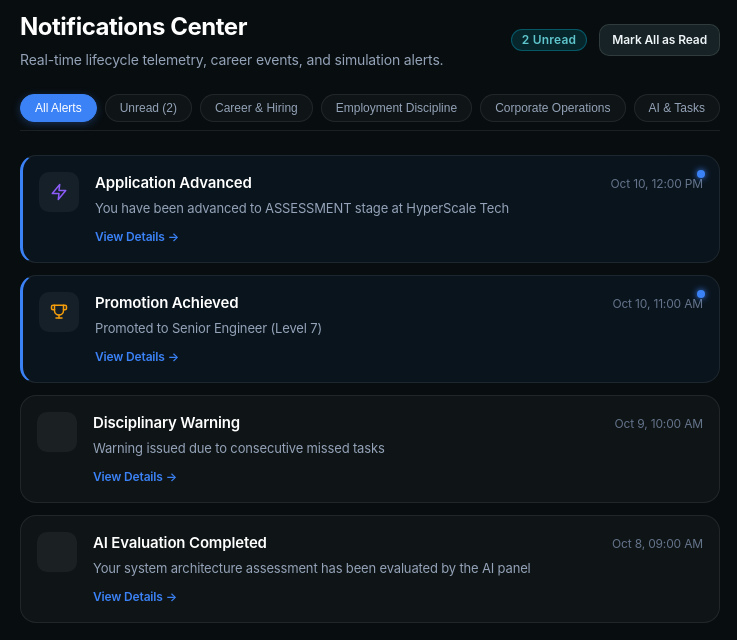
it: NotificationsCenter Frontend Suite (TASK P9.5) › filters notifications by category (Discipline tab)
Expected: the text "Application Advanced" is shown, 95,172 -> 252,194
// Click Discipline tab
Click the button "Employment Discipline" at (396, 108), box 321,94 -> 472,122
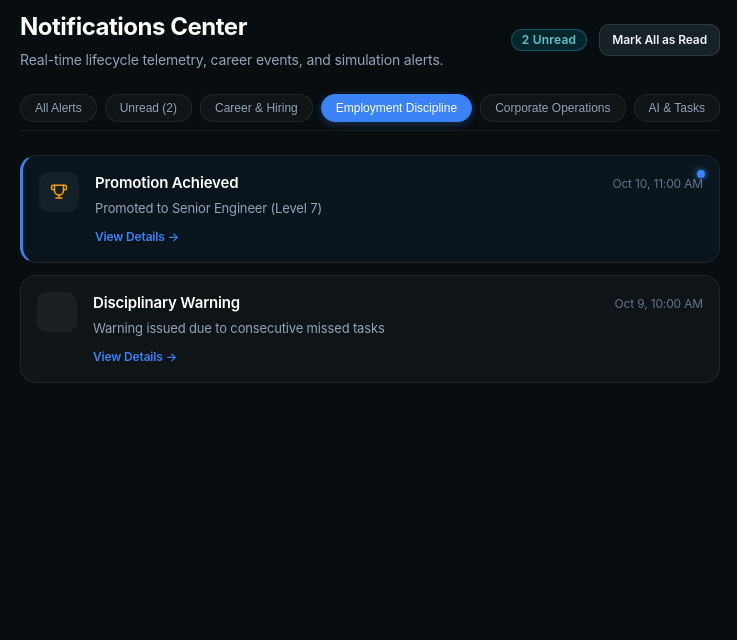
Expected: the text "Disciplinary Warning" is shown, 93,292 -> 240,314
Expected: the button "Application Advanced" is gone
